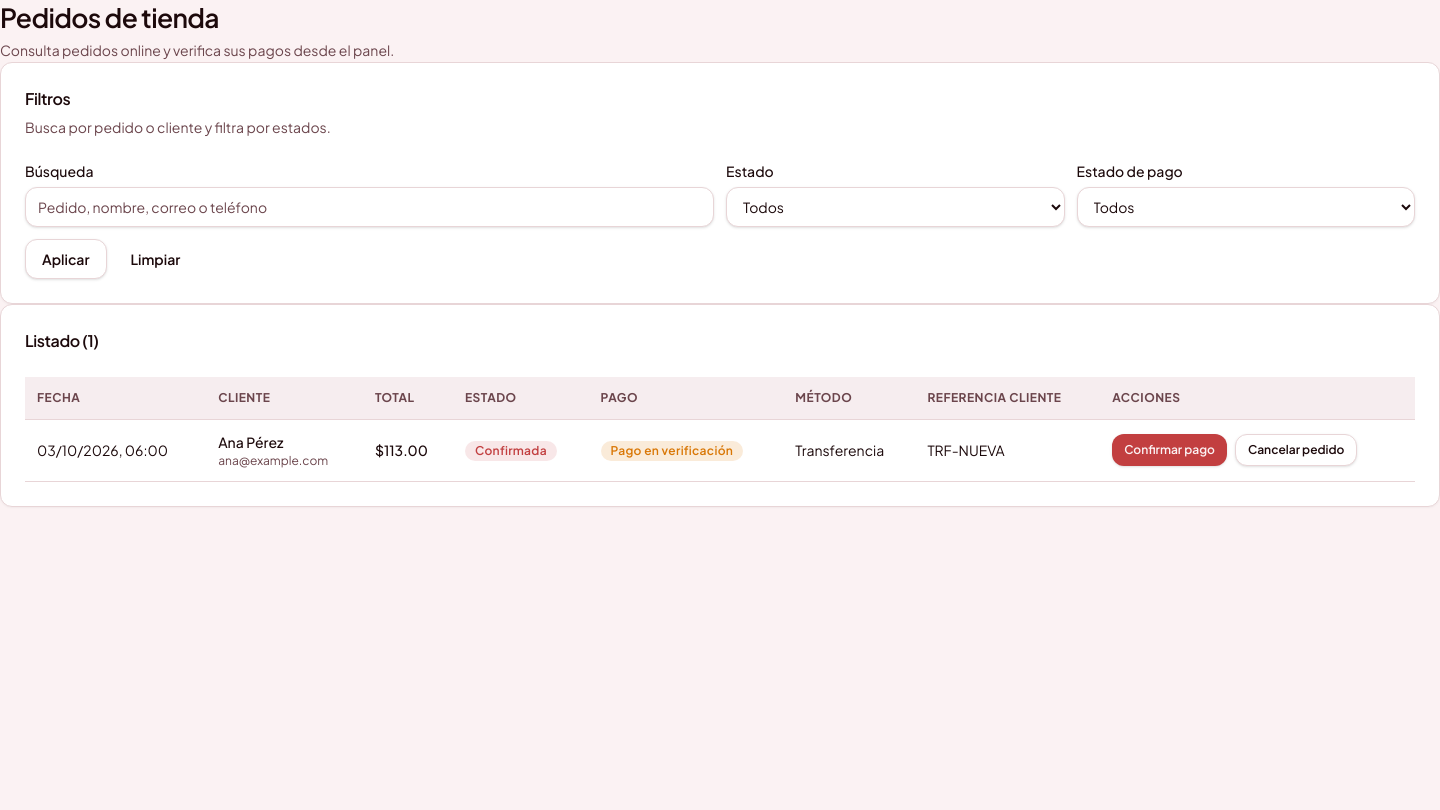
Test case: PedidosTiendaContent › muestra el mensaje del servidor y refresca ante un 409
Click the button "Confirmar pago" at (1170, 450), box [1112,434,1227,466]
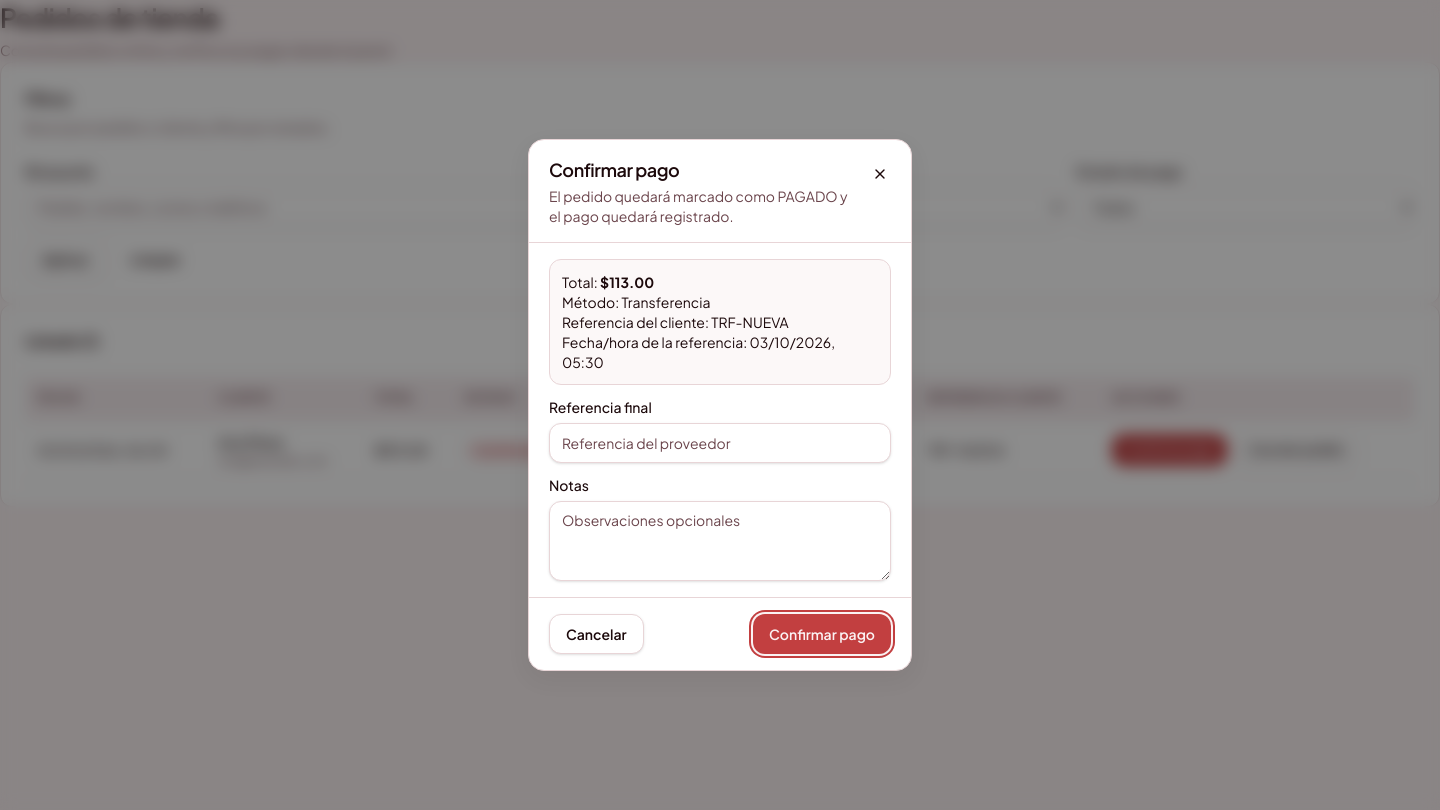
Click the button "Confirmar pago" at (822, 634), box [753,614,891,654]
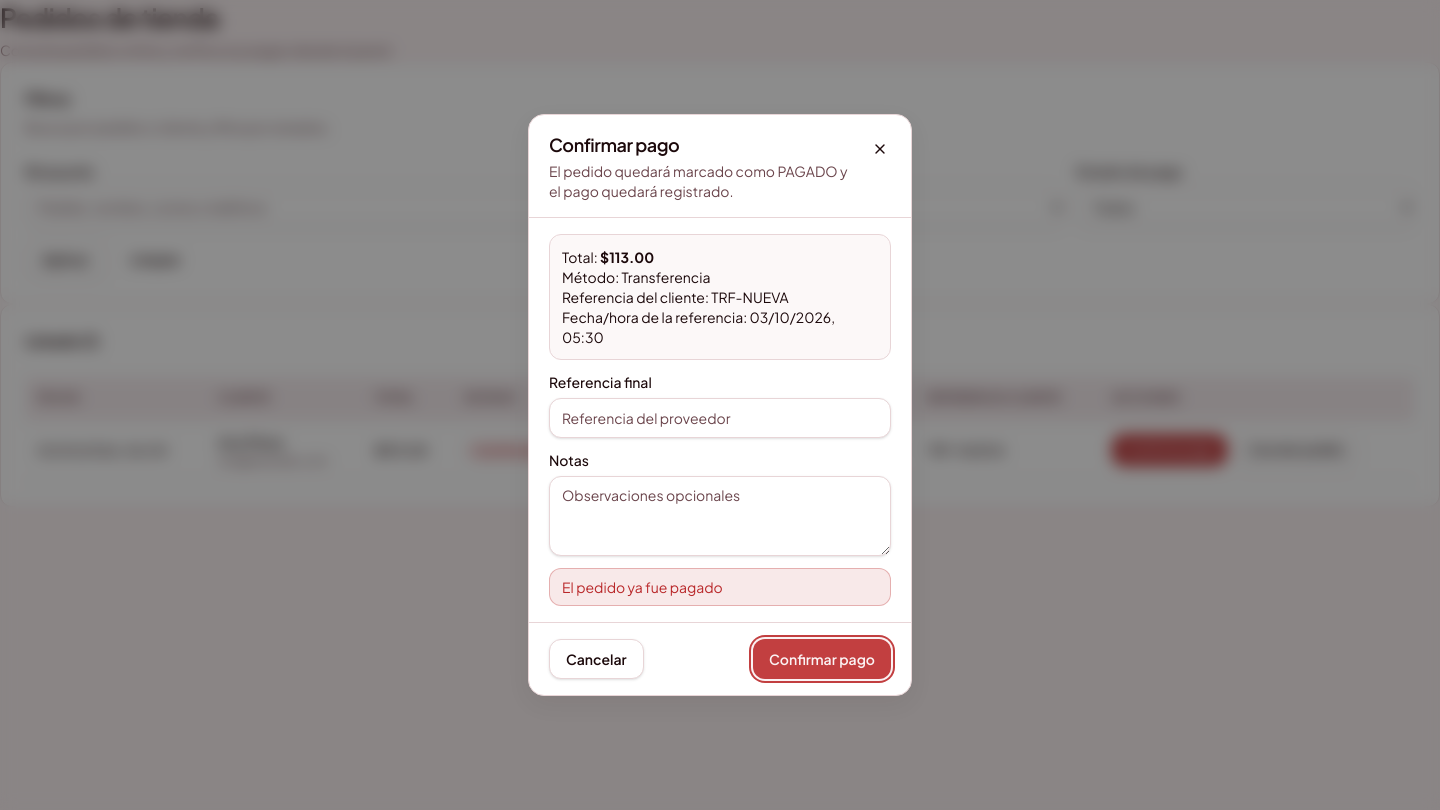
Now the dialog shows "El pedido ya fue pagado", box [562,578,723,596]
